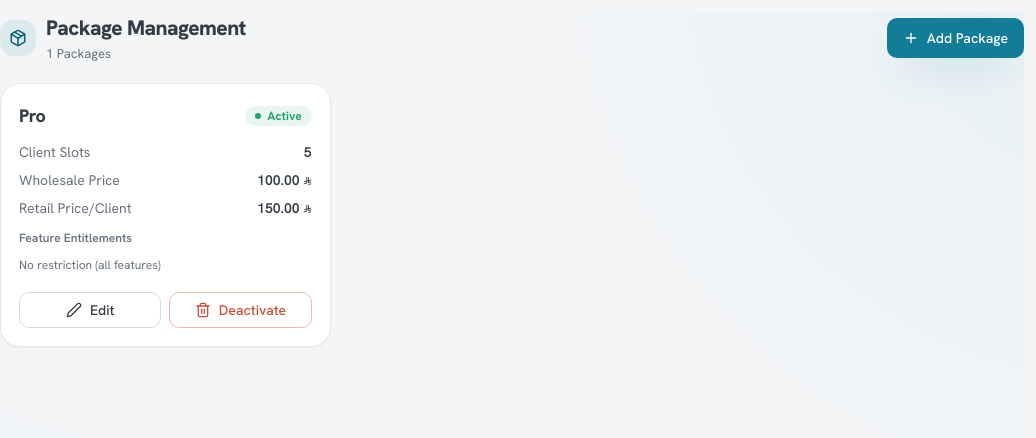
PackageManagement deactivate blast-radius (#236 A3) › warns with the affected-agents count when deactivating an in-use package
Click the button "Deactivate": (240, 310) [169,292,312,328]
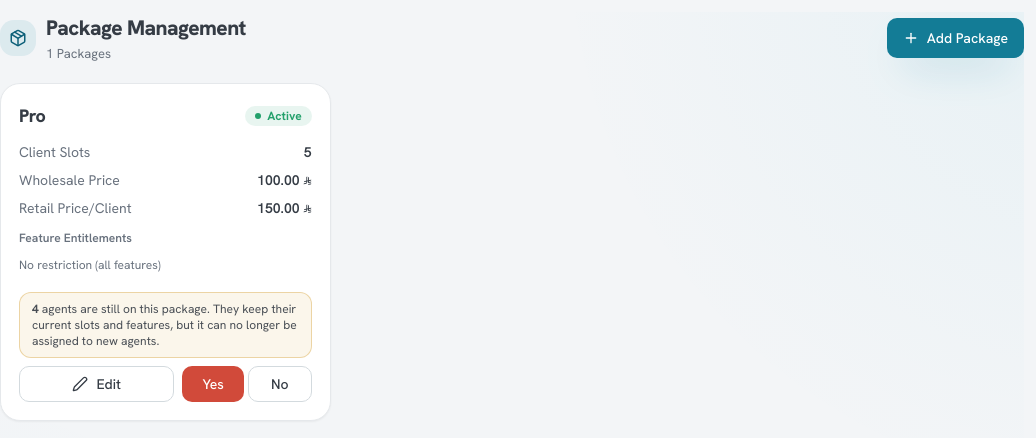
Now the element with test id "pkg-deactivate-impact" shows "4", box [32,301,39,317]
Now the element with test id "pkg-deactivate-impact" shows "agent", box [32,301,297,349]
